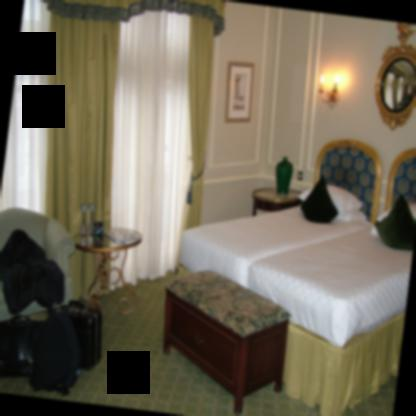backpack: (27, 309, 82, 398)
handbag: (0, 313, 45, 378)
suitcase: (69, 298, 102, 367)
